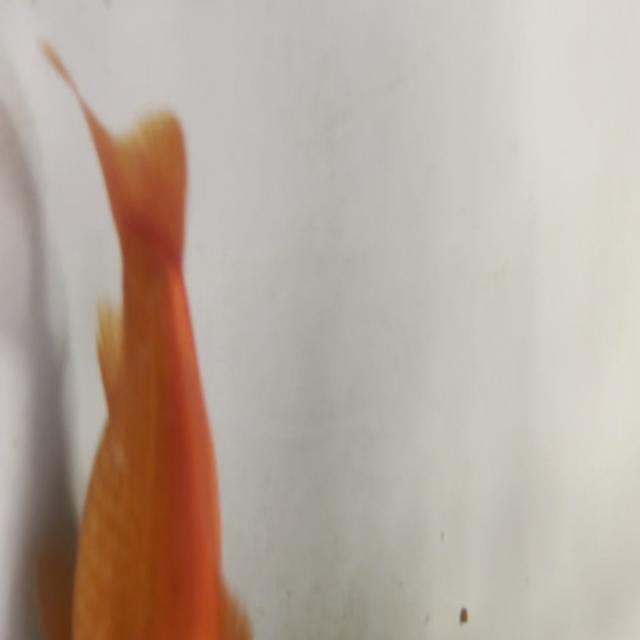fish: (32, 41, 249, 640)
